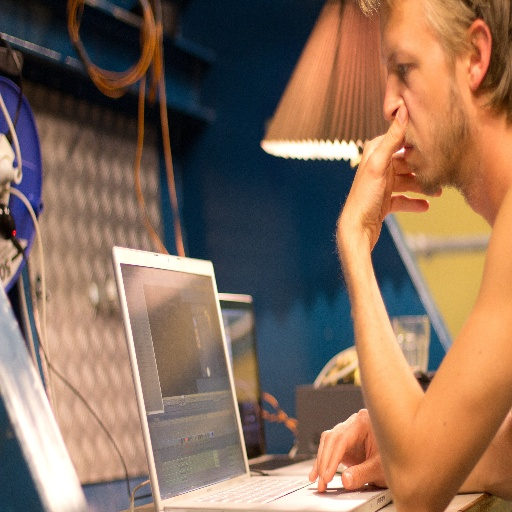hand: (337, 103, 443, 252), (313, 405, 400, 494)
